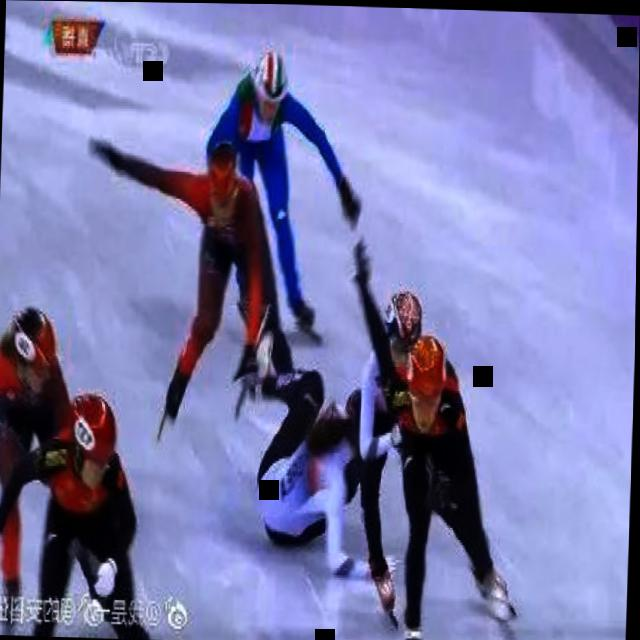Fall-Detected: (226, 324, 395, 585)
